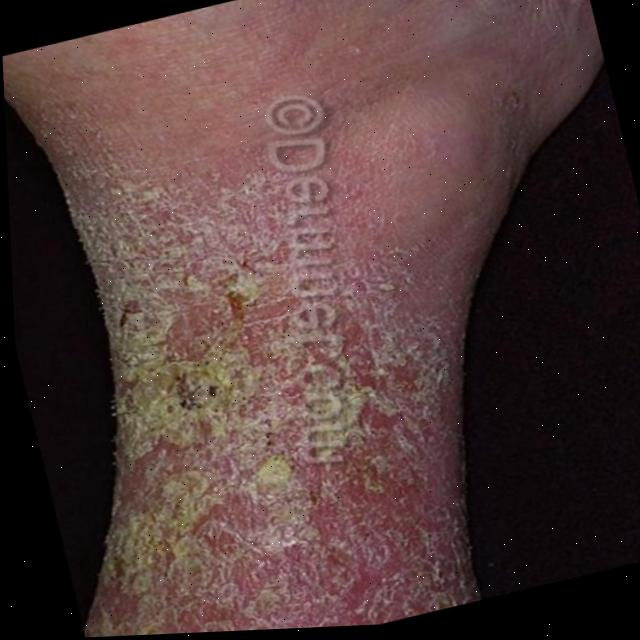Eczema: (65, 130, 422, 637)
